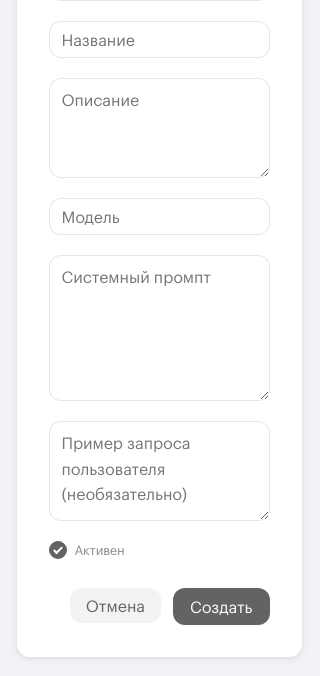
NewAssistant — валидация формы › ошибка поля сбрасывается при вводе текста
(page scrolled)
Click the button "Создать" at x=221, y=606, box [173,588,270,625]
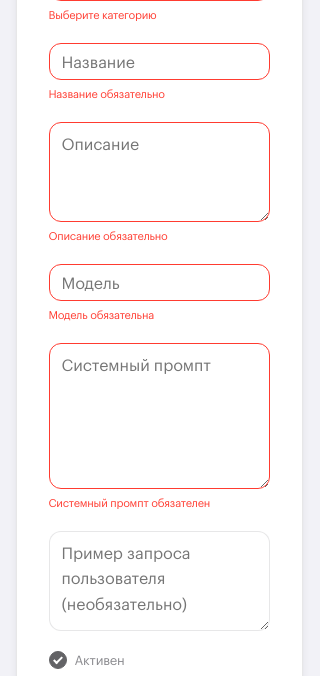
Now the text "Название обязательно" is shown, box [48,87,165,100]
Type "Мой ассистент" into the field with placeholder "Название" at x=159, y=61, box [48,43,270,80]
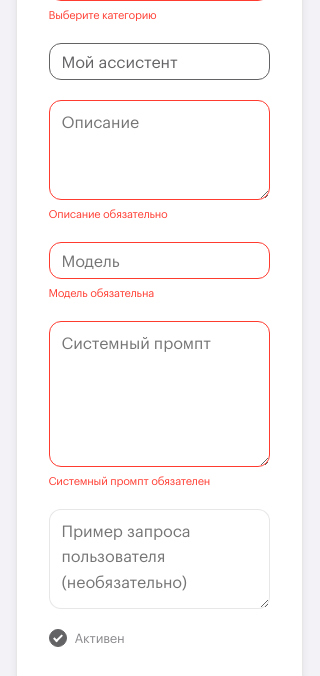
Now the text "Название обязательно" is gone
